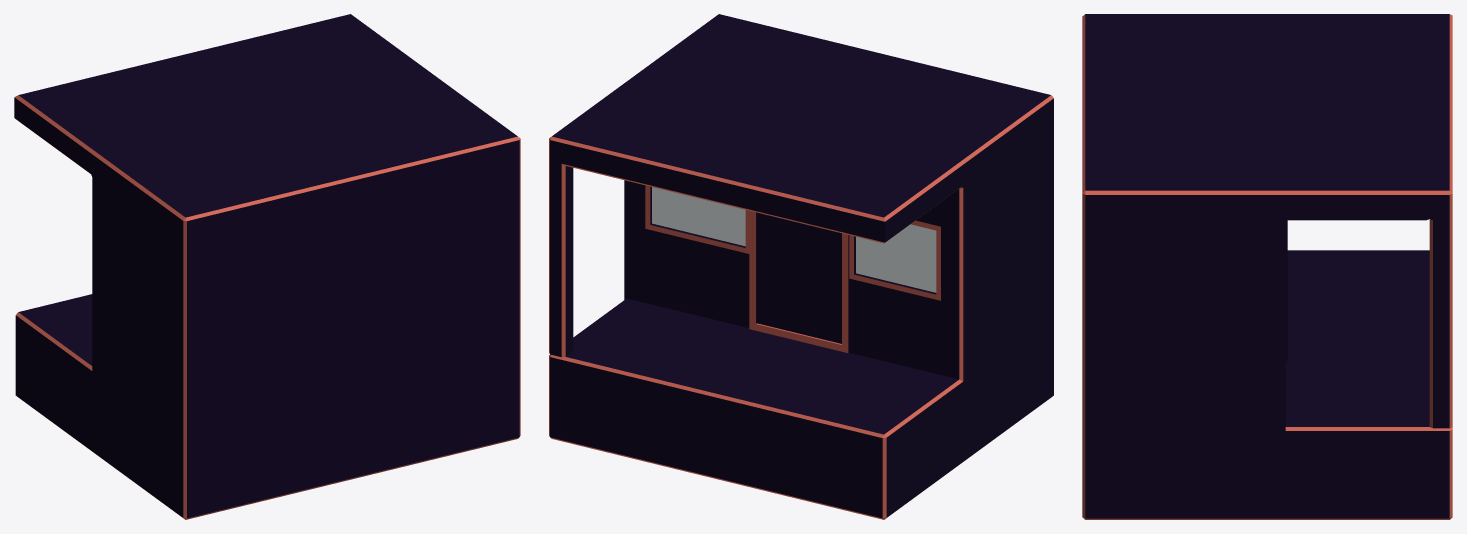
Rendered from Train Station_Orange.fbx.
The picture shows the model from 3 angles, left to right: view 1: azimuth 30°, elevation 25°; view 2: azimuth 150°, elevation 25°; view 3: azimuth 270°, elevation 25°; orthographic projection. The views are drawn at different scales.
Parts seen in each view (by area): view 1: Cube; view 2: Cube; view 3: Cube.
Part boxes in pixels (left/top/right/bottom): Cube: left=14, top=14, right=520, bottom=519; Cube: left=549, top=14, right=1053, bottom=519; Cube: left=1082, top=14, right=1452, bottom=519.
Size of the model in its own units: 400 by 343 by 349.
